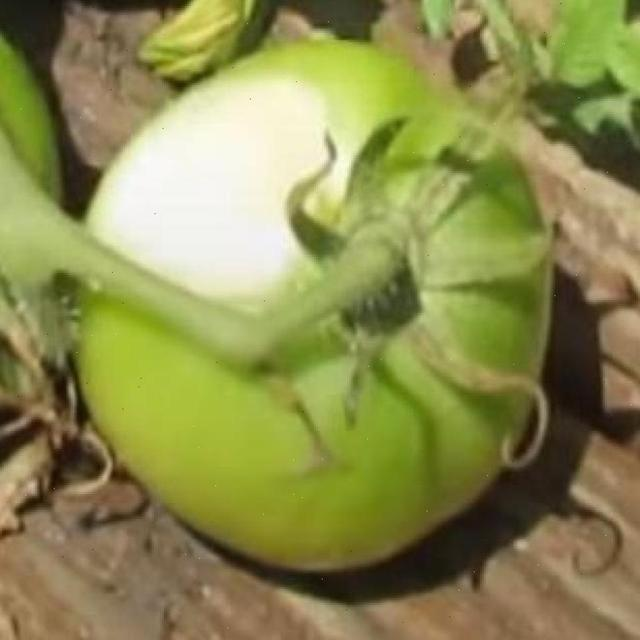Sunscald Fruit: (44, 52, 225, 204)
